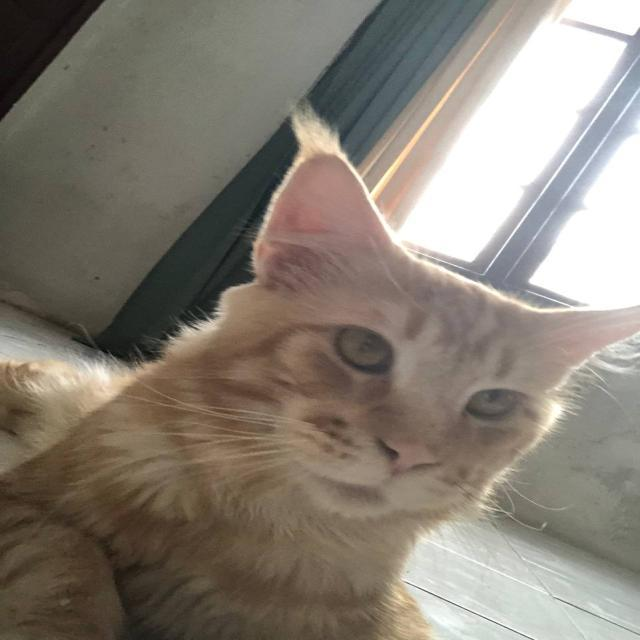da khoe manh: (88, 454, 342, 640)
